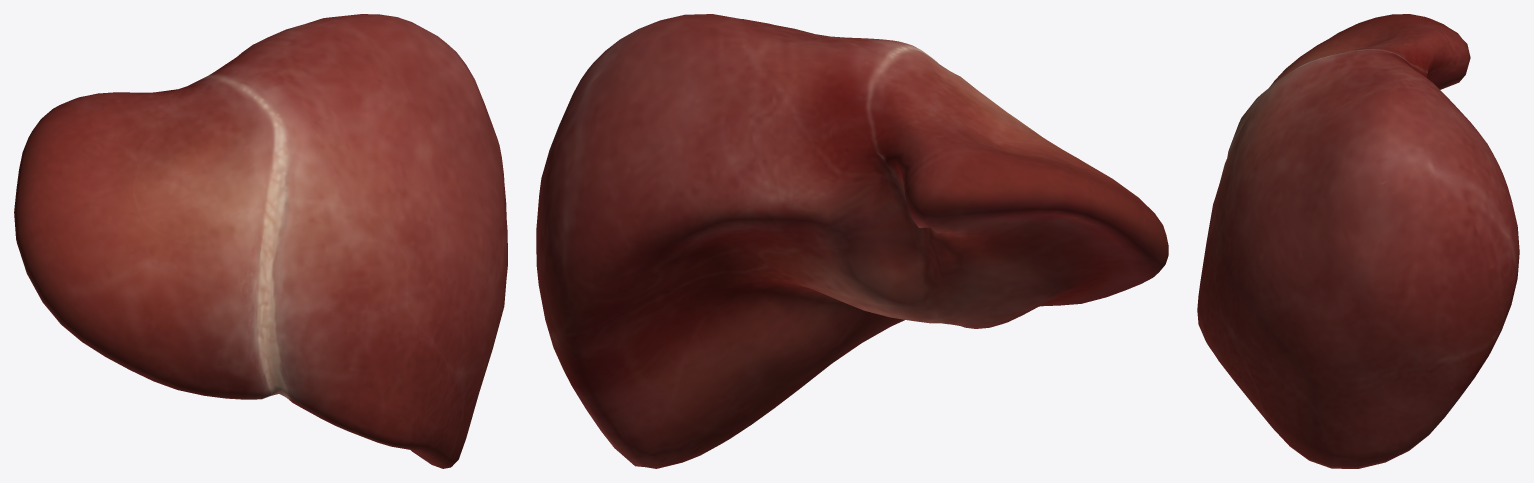
Rendered from higado.fbx.
3 renders of one model, left to right at view 1: azimuth 30°, elevation 25°; view 2: azimuth 150°, elevation 25°; view 3: azimuth 270°, elevation 25°, orthographic. The views are drawn at different scales.
Visible parts, largest first — view 1: Higado; view 2: Higado; view 3: Higado.
Boxes of the visible parts, x1=… form: Higado: x1=14, y1=14, x2=507, y2=468; Higado: x1=536, y1=14, x2=1168, y2=468; Higado: x1=1197, y1=14, x2=1519, y2=468.
Size of the model in its own units: 203 by 166 by 137.
